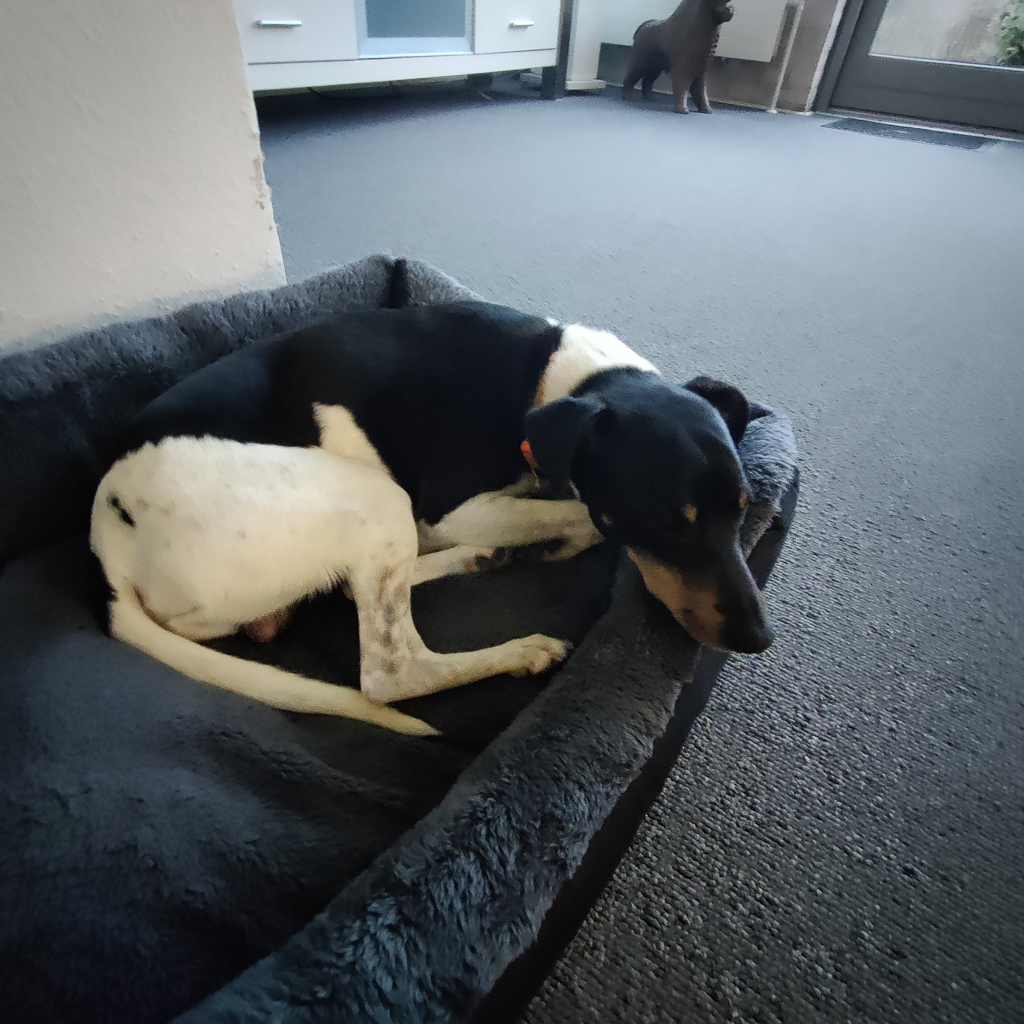Cattle: (609, 0, 742, 119)
Dog: (44, 256, 815, 787)
